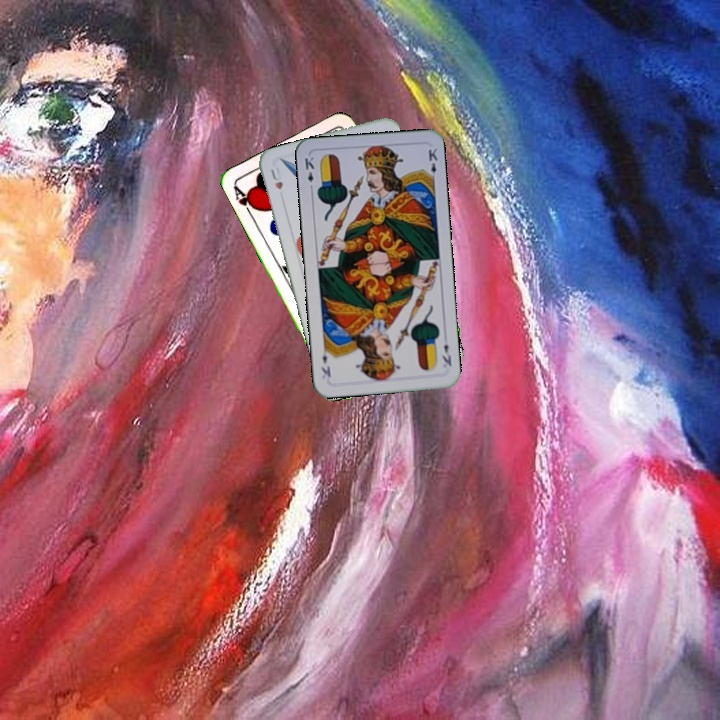EK: (301, 153, 317, 193), (438, 340, 454, 368)
HA: (229, 182, 259, 220)
HU: (267, 163, 285, 192)
